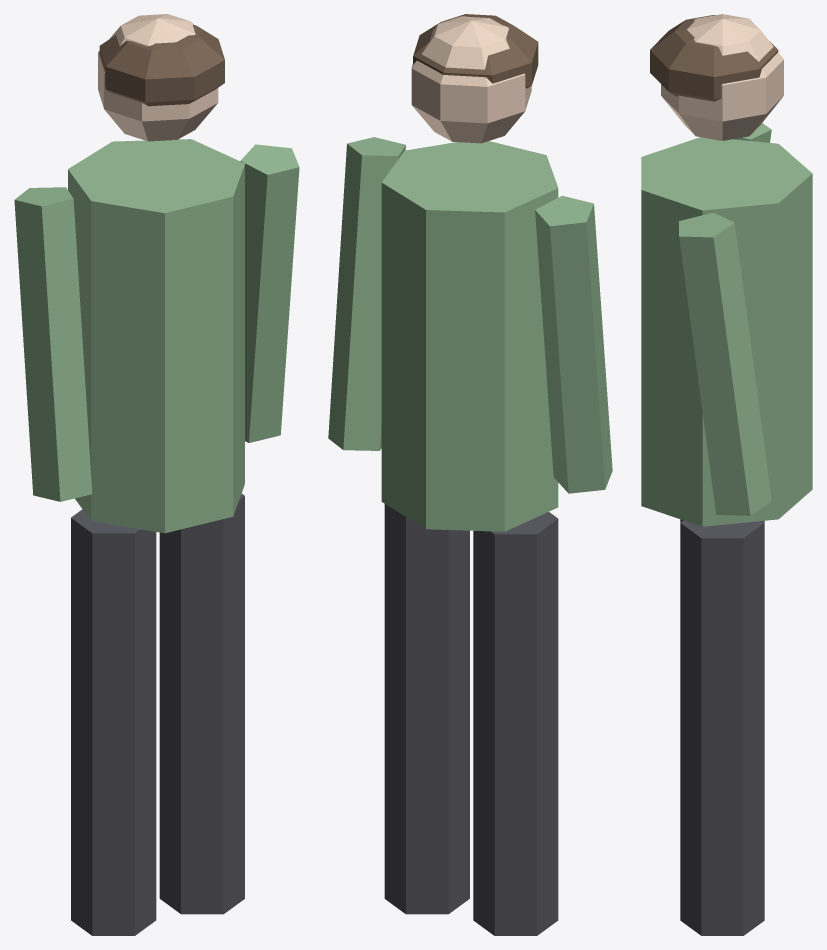
Rendered from ped_4.glb.
3 renders of one model, left to right at view 1: azimuth 30°, elevation 25°; view 2: azimuth 150°, elevation 25°; view 3: azimuth 270°, elevation 25°, orthographic.
Parts seen in each view (by area): view 1: ped_4; view 2: ped_4; view 3: ped_4.
Boxes of the visible parts, <box> form: ped_4: <box>14,14,299,935</box>; ped_4: <box>328,14,612,935</box>; ped_4: <box>641,14,812,935</box>.
Bounding box in the file's own units: 0.5246 × 1.73 × 0.3042.
